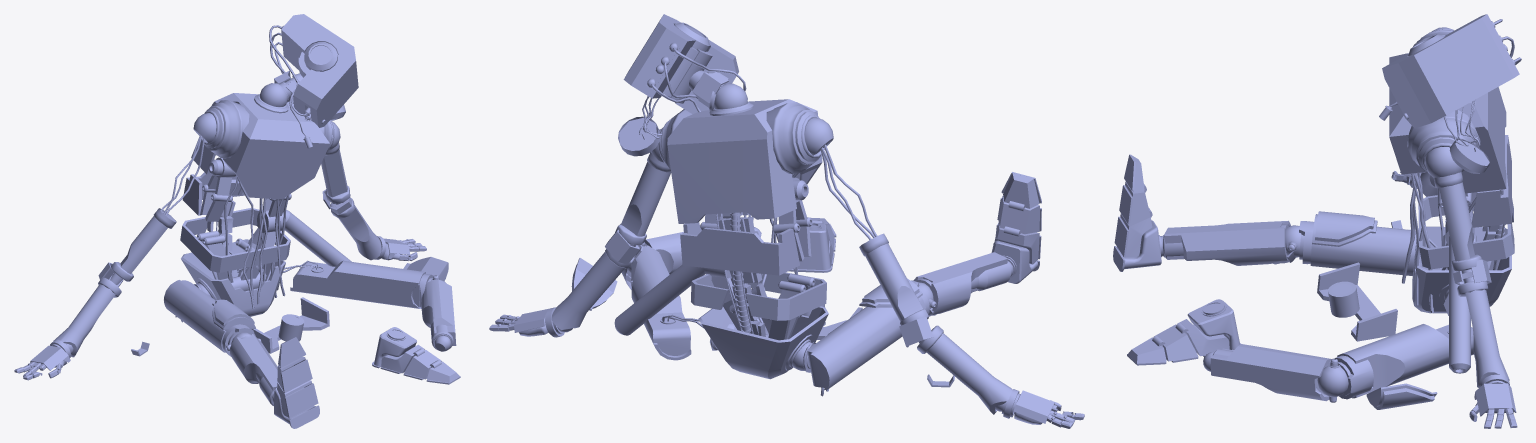
The model's file is Роботы_002.fbx.
3 views of the same model, side by side, from view 1: azimuth 30°, elevation 25°; view 2: azimuth 150°, elevation 25°; view 3: azimuth 270°, elevation 25° (orthographic). The views are drawn at different scales.
Visible parts, largest first — view 1: J4H71M_low.010; view 2: J4H71M_low.010; view 3: J4H71M_low.010.
Boxes of the visible parts, <box> form: J4H71M_low.010: <box>14,14,460,428</box>; J4H71M_low.010: <box>489,14,1084,428</box>; J4H71M_low.010: <box>1113,14,1521,428</box>.
Bounding box in the file's own units: 1.67 × 1 × 1.08.
